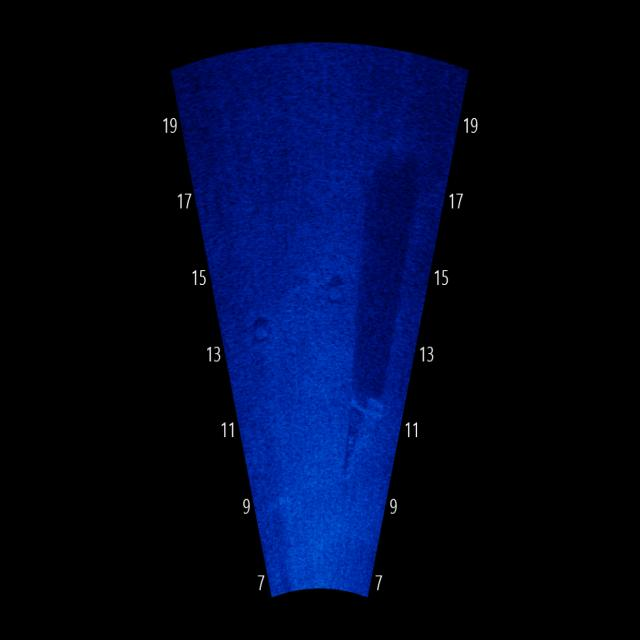triangle: (338, 381, 386, 483)
